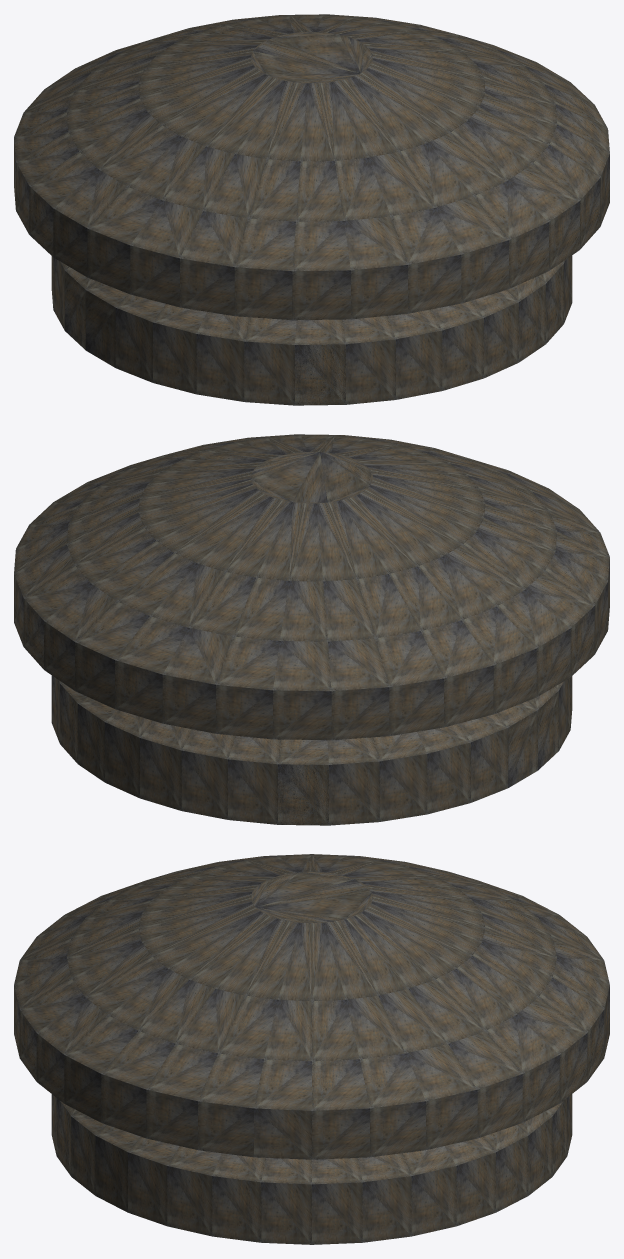
File: bumper.obj
3 views of the same model, one above another, from view 1: azimuth 30°, elevation 25°; view 2: azimuth 150°, elevation 25°; view 3: azimuth 270°, elevation 25° (orthographic).
Parts seen in each view (by area): view 1: Cylinder.002; view 2: Cylinder.002; view 3: Cylinder.002.
Part boxes in pixels (<box>): Cylinder.002: <box>14,14,609,405</box>; Cylinder.002: <box>14,434,609,825</box>; Cylinder.002: <box>14,854,609,1244</box>.
Size of the model in its own units: 1.48 by 0.6521 by 1.48.
1 material, 1 textured.
